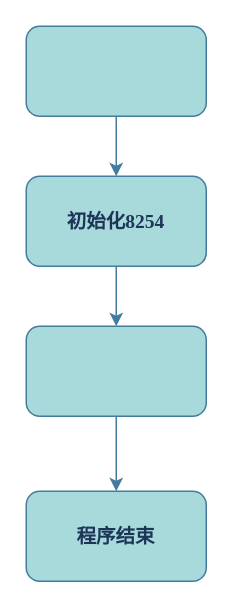
Some shapes in this 233 by 608 pixel diagram are drawn without their labels. The shapes that lost their labels are listed below. From the top down, each one's centre as x and y in pixels, then its label:
At point 115,70: "开始".
At point 115,370: "送计数初值N （500/1000）".
